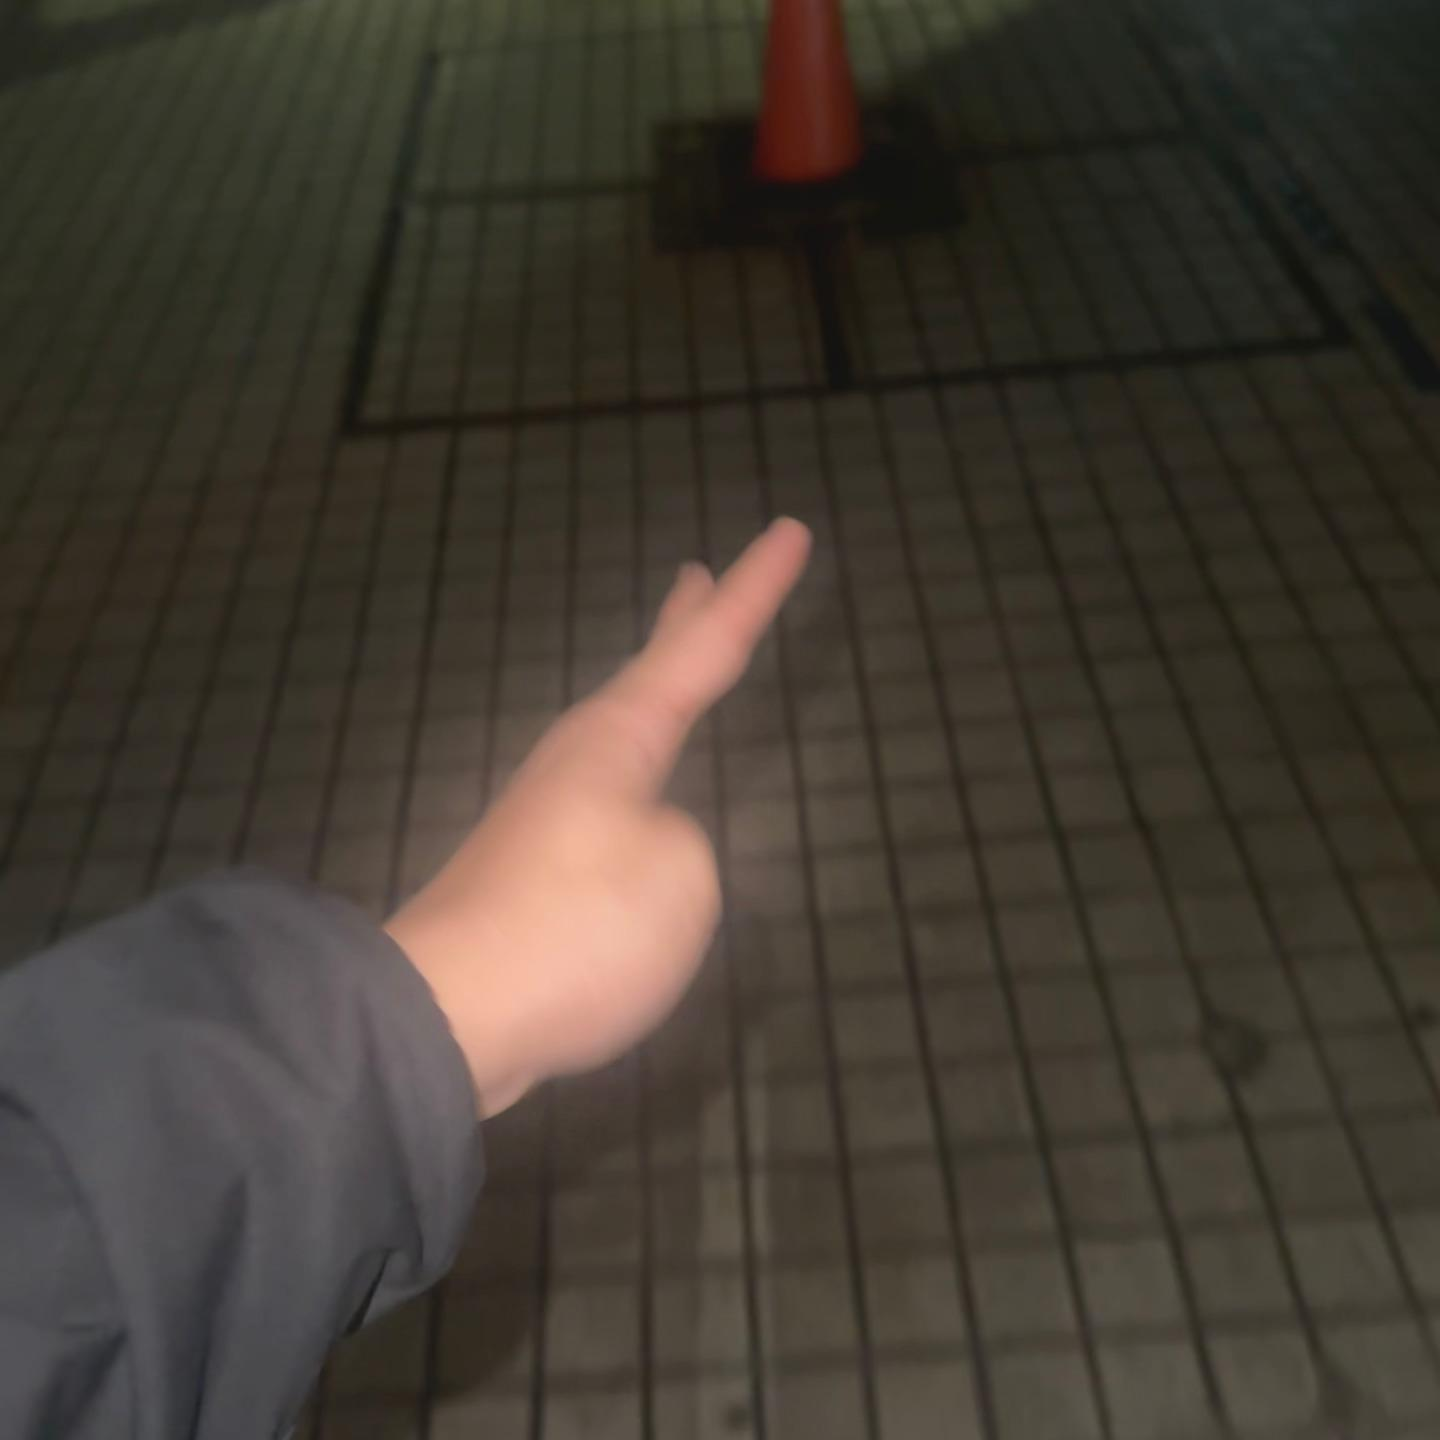without_gloves: (380, 382, 984, 1040)
